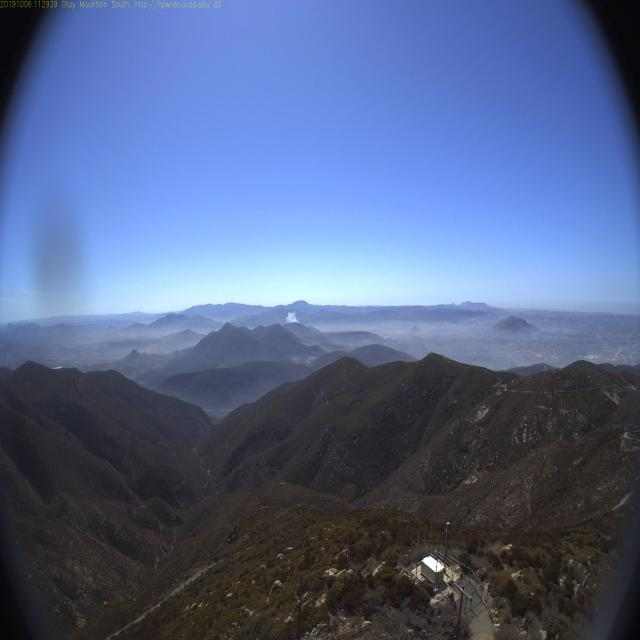smoke: (282, 306, 301, 326)
